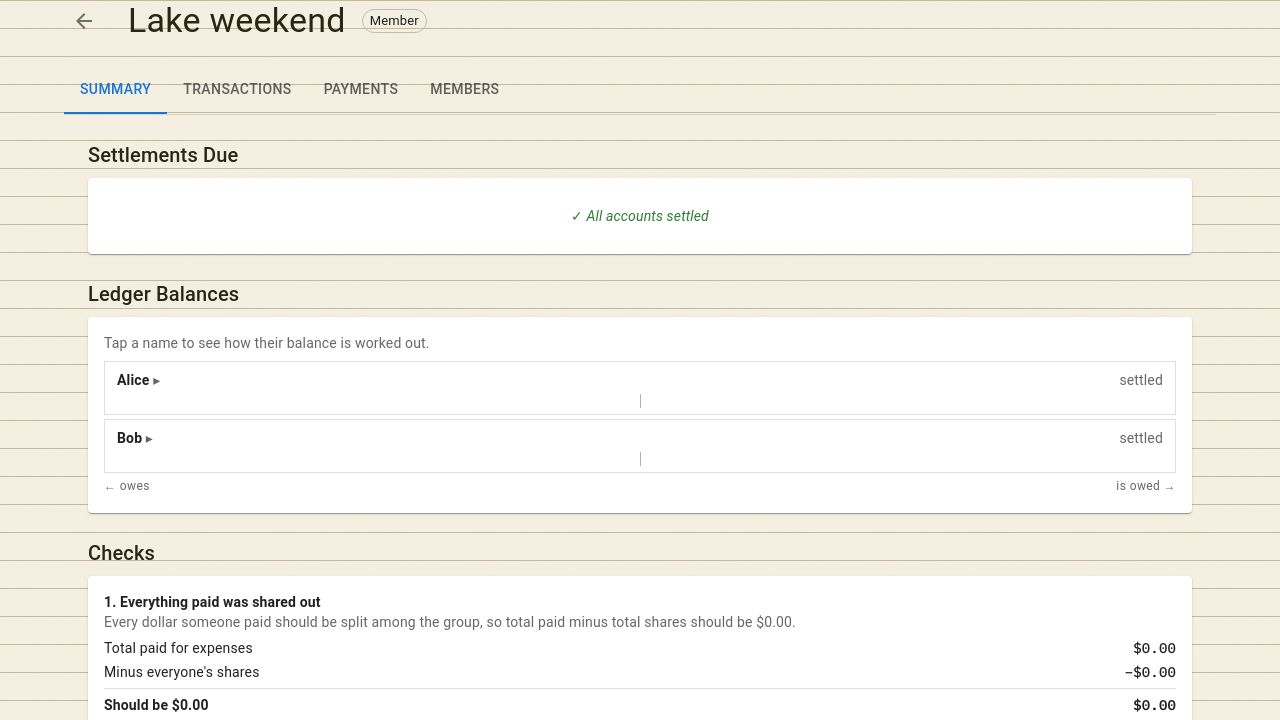
Test case: GroupDetails tabs › hides member management for people who cannot manage members
Click the tab "Members".
click(465, 90)  # box [414,66,516,114]
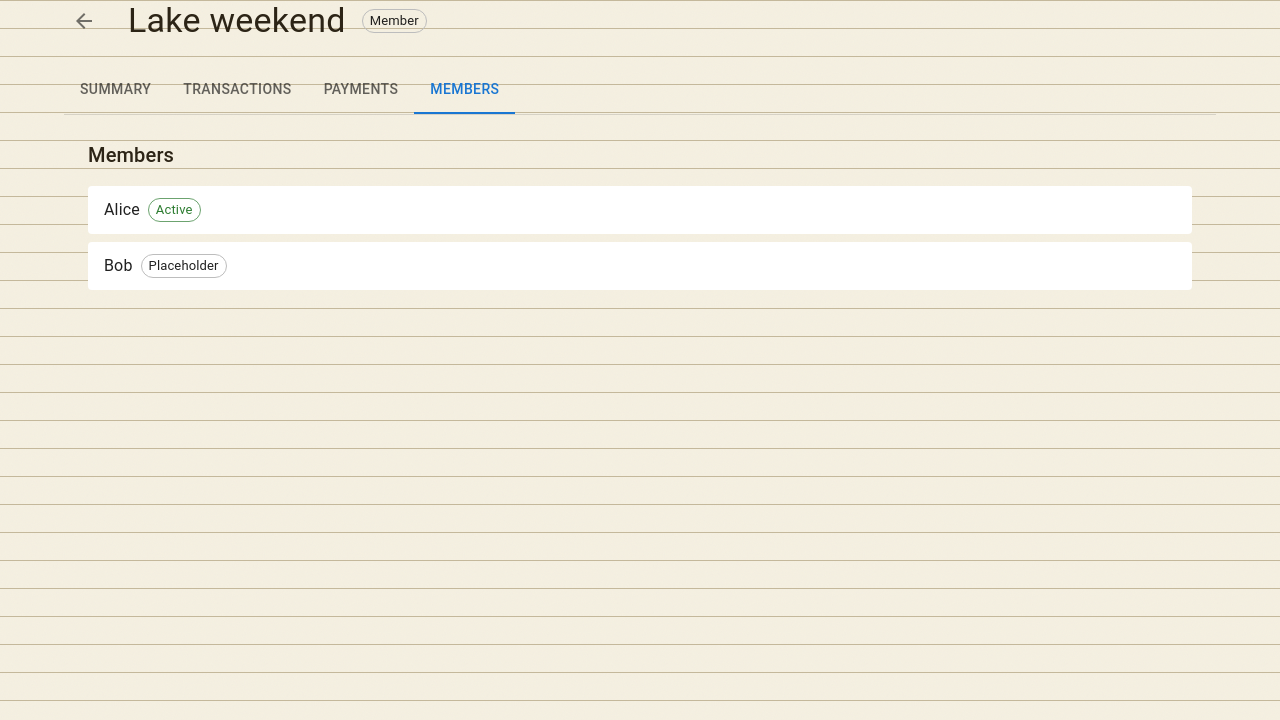
Result: the text "Bob" is shown at [104,256,132,275]
